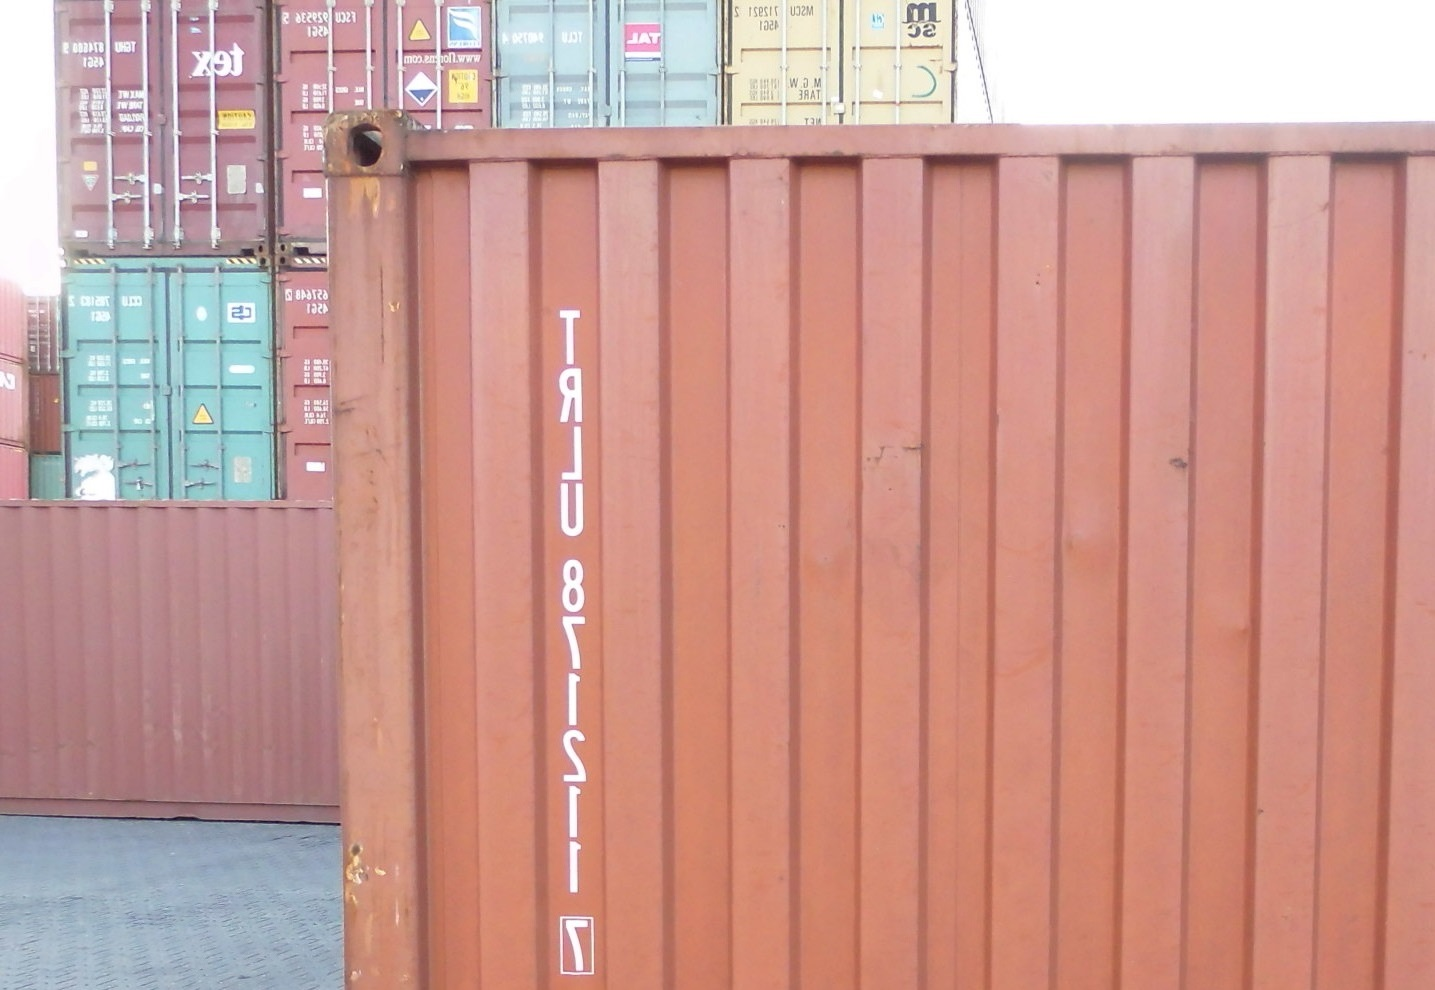container_door: (57, 5, 269, 259), (59, 262, 269, 505), (728, 1, 949, 121), (272, 1, 491, 121), (501, 1, 720, 121)
container_no_door: (322, 121, 1435, 986)
